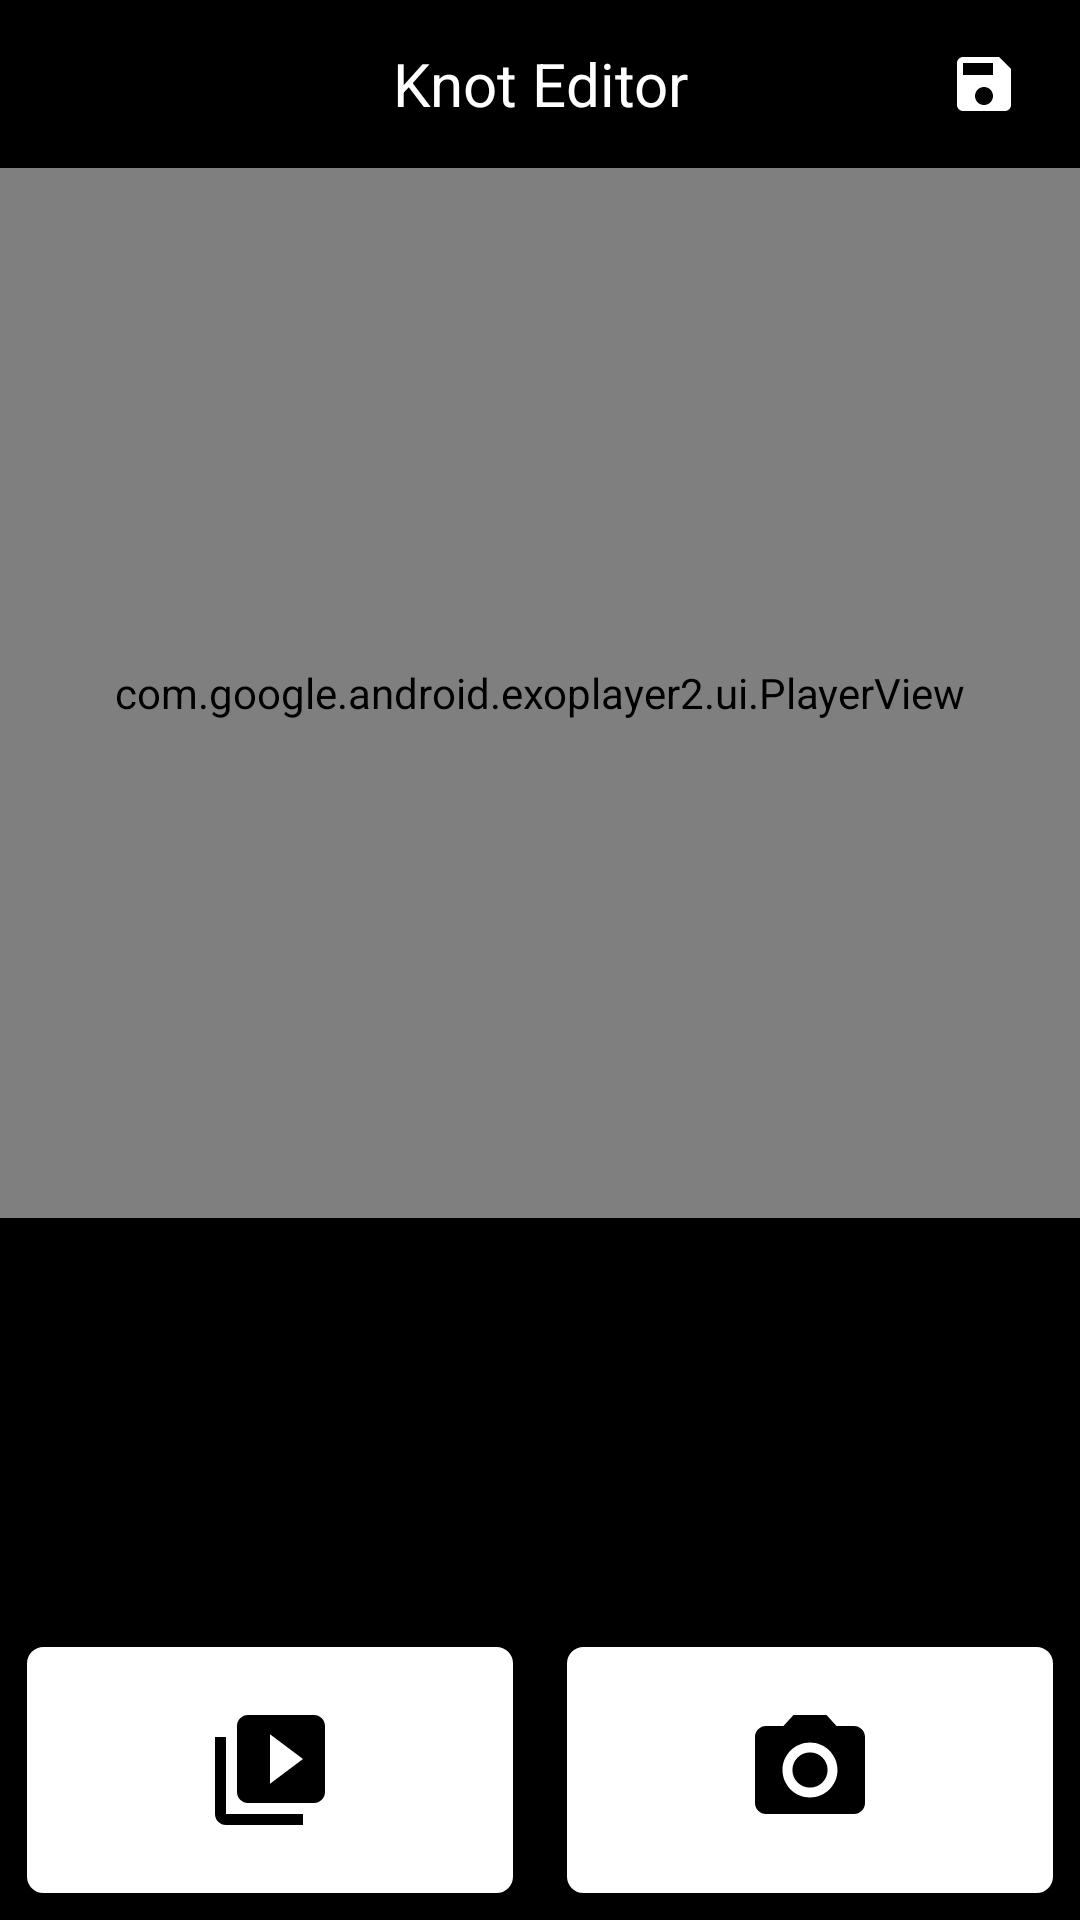

Named icons in this screenshot (1080px x 1920px) and their bounding boxes, (x1, y1, x2, y2):
save: (957, 57, 1011, 111)
